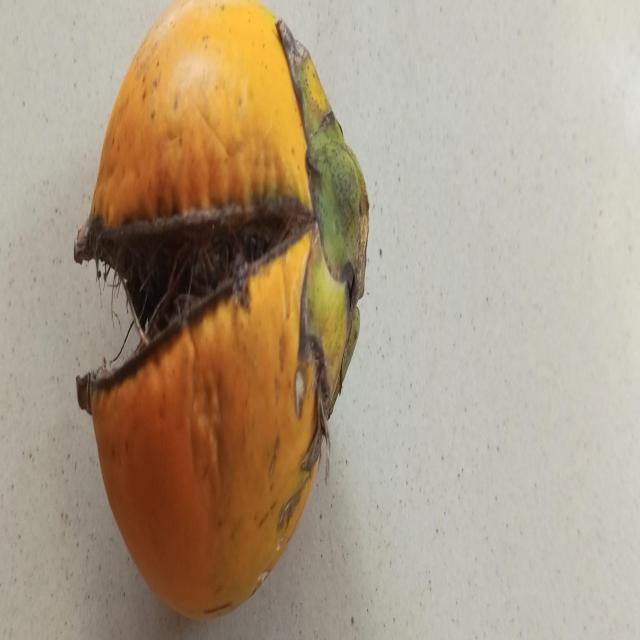damaged: (76, 0, 370, 620)
